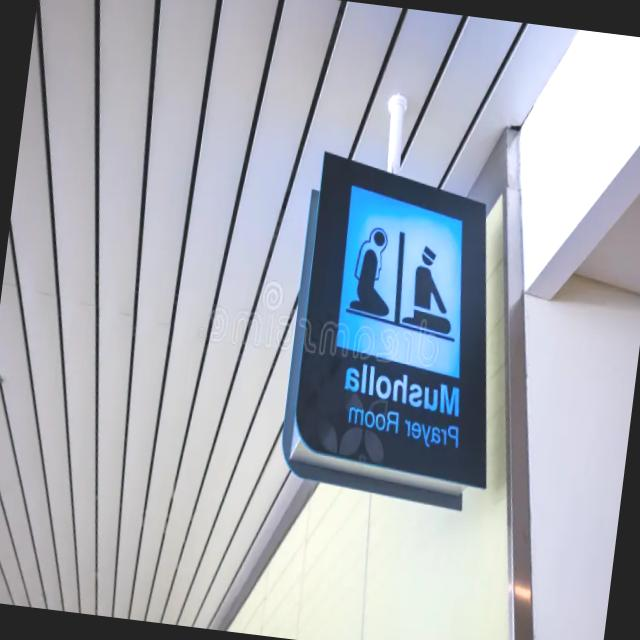surau_icon: (339, 212, 468, 342)
